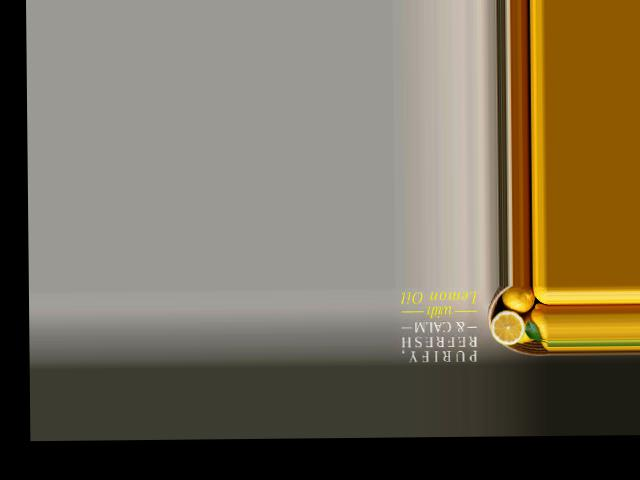lemon: (503, 284, 534, 314)
